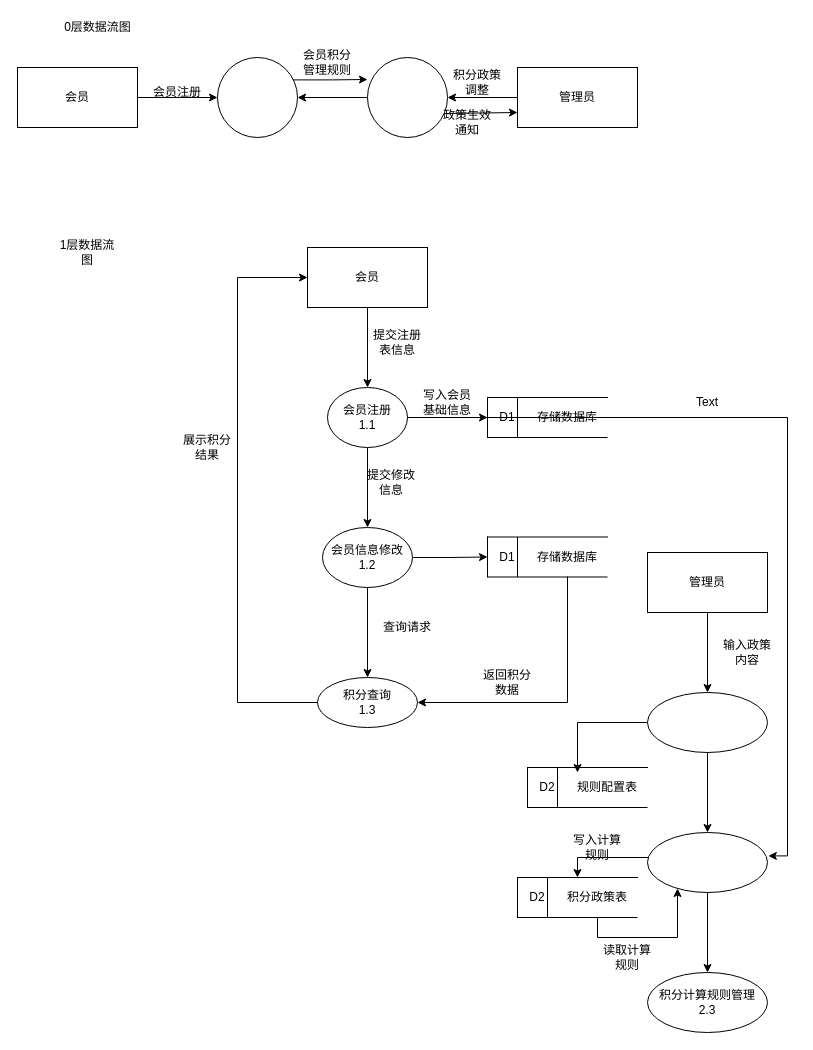
Image size: 813x1050. Some labels were removed from this diagram. The centre of each missing label's shape, as x and y in pixels:
"会员管理模块" goes at (257,97).
"政策制定 2.1" goes at (707,722).
"政策更新 2.2" goes at (707,862).
"积分政策管理模块" goes at (407,97).
